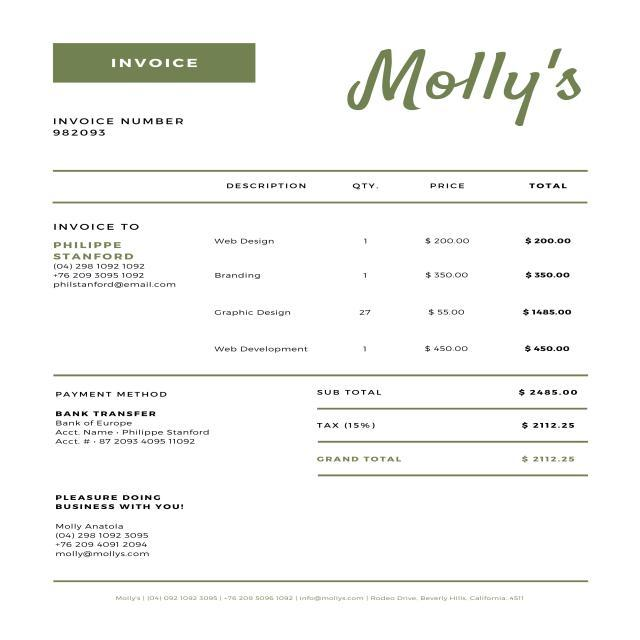ROI: (52, 167, 603, 370), (311, 383, 597, 484), (350, 39, 589, 130), (50, 383, 210, 450), (53, 492, 193, 561), (106, 591, 530, 607), (39, 113, 198, 148), (106, 47, 200, 77)
